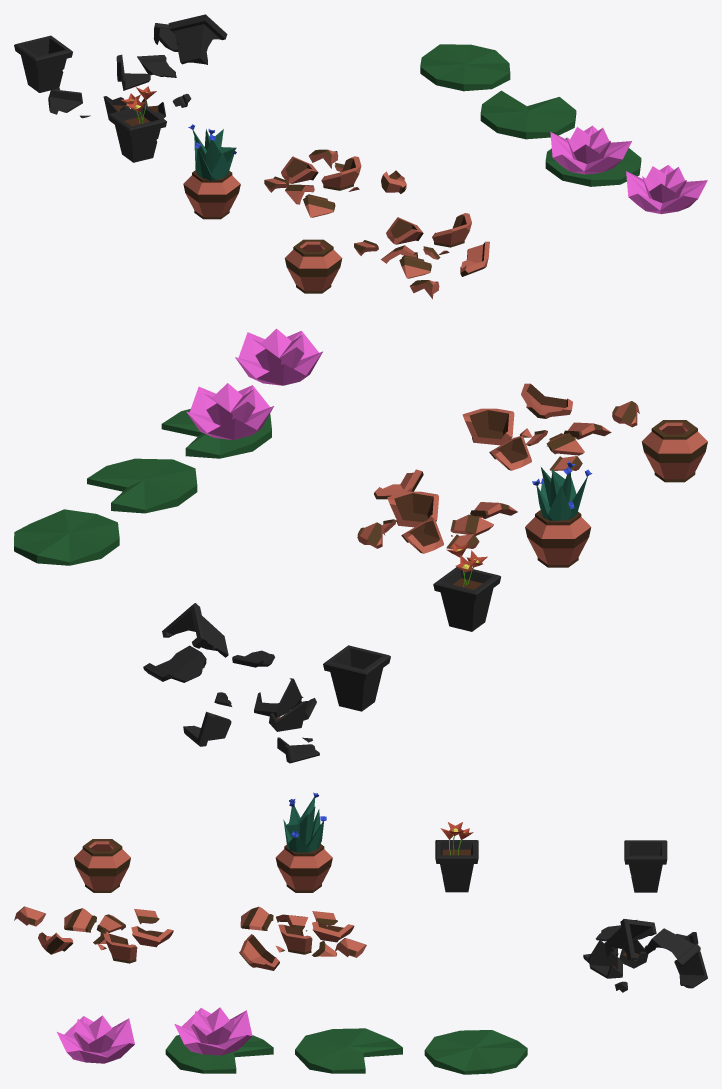
Rendered from Flowers_And_Vases.fbx.
3 views of the same model, one above another, from view 1: azimuth 30°, elevation 25°; view 2: azimuth 150°, elevation 25°; view 3: azimuth 270°, elevation 25° (orthographic). The views are drawn at different scales.
Parts seen in each view (by area): view 1: BrokenVase2, BrokenVase1, SmallFlowerPink.006, LilyPad, LilypadCut, LilypadFlower.001, LilypadFlower.002, BrownVase, Vase.002, Vase, Vase.007, LilypadFlower (+4 smaller); view 2: BrokenVase2, BrokenVase1, LilyPad, SmallFlowerPink.006, LilypadCut, LilypadFlower.001, LilypadFlower.002, BrownVase, Vase.002, Vase, LilypadFlower, Vase.007 (+4 smaller); view 3: BrokenVase1, LilyPad, BrokenVase2, SmallFlowerPink.006, LilypadCut, LilypadFlower.001, LilypadFlower.002, BrownVase, LilypadFlower, Vase.002, Vase, Vase.007 (+3 smaller).
Part boxes in pixels (box(x1,y1,x2,y2)): BrokenVase2: box(354, 213, 489, 299); BrokenVase1: box(264, 149, 406, 217); SmallFlowerPink.006: box(183, 124, 240, 219); LilyPad: box(420, 44, 510, 91); LilypadCut: box(480, 90, 576, 139); LilypadFlower.001: box(626, 165, 707, 214); LilypadFlower.002: box(550, 125, 631, 174); BrownVase: box(284, 239, 342, 293); Vase.002: box(14, 35, 72, 92); Vase: box(108, 105, 166, 162); Vase.007: box(168, 14, 227, 64); LilypadFlower: box(545, 138, 641, 186); BrokenVase2: box(462, 383, 639, 470); BrokenVase1: box(357, 469, 517, 553); LilyPad: box(14, 509, 119, 565); SmallFlowerPink.006: box(525, 461, 592, 567); LilypadCut: box(87, 458, 197, 513); LilypadFlower.001: box(235, 328, 322, 385); LilypadFlower.002: box(186, 383, 273, 439); BrownVase: box(641, 420, 707, 482); Vase.002: box(323, 645, 390, 711); Vase: box(433, 567, 500, 631); LilypadFlower: box(161, 409, 271, 458); Vase.007: box(162, 603, 228, 657); BrokenVase1: box(239, 906, 366, 970); LilyPad: box(424, 1030, 527, 1074); BrokenVase2: box(14, 906, 173, 963); SmallFlowerPink.006: box(275, 792, 332, 892); LilypadCut: box(295, 1028, 402, 1073); LilypadFlower.001: box(57, 1015, 134, 1063); LilypadFlower.002: box(174, 1007, 252, 1055); BrownVase: box(74, 839, 130, 892); LilypadFlower: box(165, 1035, 273, 1073); Vase.002: box(624, 840, 667, 892); Vase: box(435, 840, 478, 892); Vase.007: box(604, 919, 656, 960).
Bounding box in the file's own units: 1999 × 605 × 2970.
